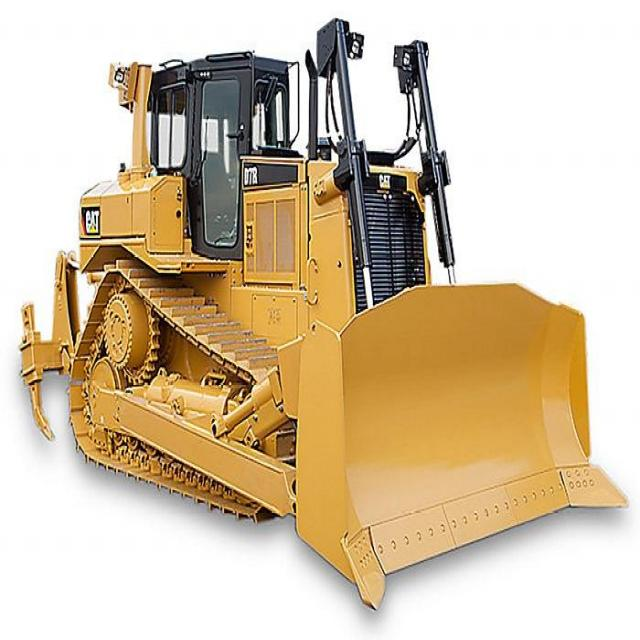Bulldozer: (21, 13, 634, 614)
